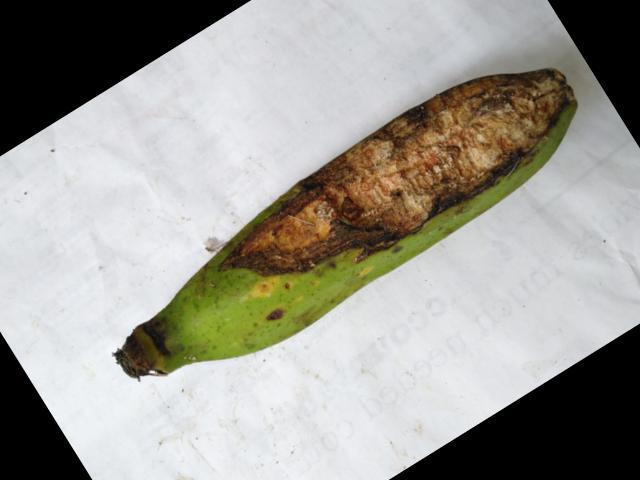rotten: (189, 54, 588, 301)
